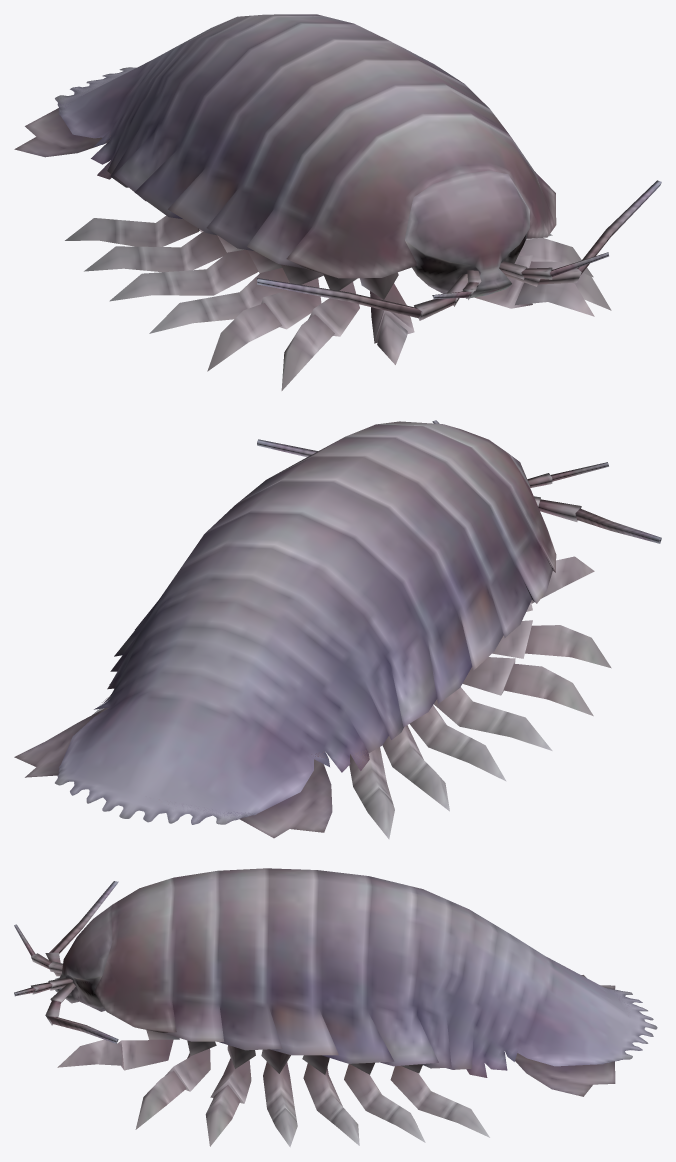
File: giant-isopod.glb
3 renders of one model, top to bottom at view 1: azimuth 30°, elevation 25°; view 2: azimuth 150°, elevation 25°; view 3: azimuth 270°, elevation 25°, orthographic. The views are drawn at different scales.
Size of the model in its own units: 4.18 by 2.4 by 7.19.
Materials: 1 (1 with a texture image).
